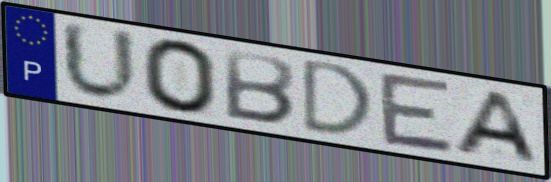A: (448, 89, 544, 168)
B: (220, 46, 298, 127)
D: (300, 56, 377, 139)
E: (376, 69, 458, 157)
O: (138, 37, 221, 117)
U: (58, 17, 142, 105)
